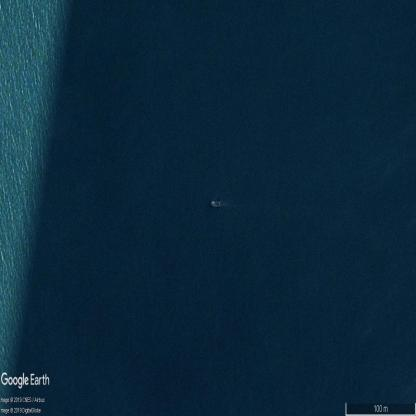ship: (210, 200, 221, 208)
